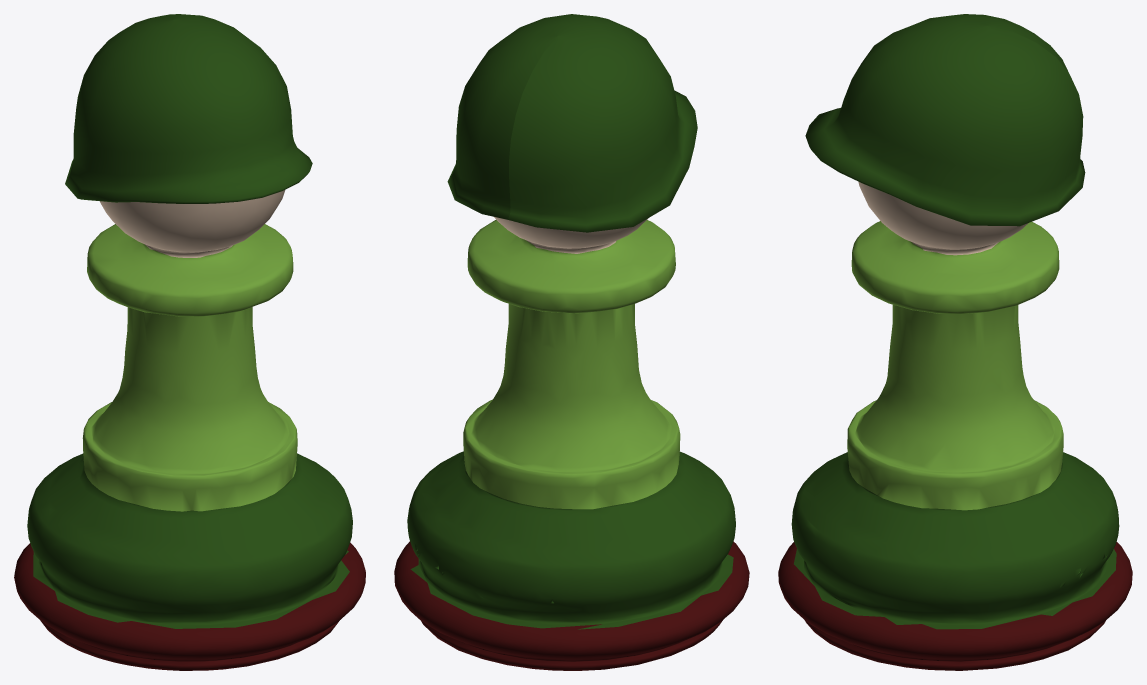
File: Peao Branco.fbx
3 views of the same model, side by side, from view 1: azimuth 30°, elevation 25°; view 2: azimuth 150°, elevation 25°; view 3: azimuth 270°, elevation 25° (orthographic).
Parts seen in each view (by area): view 1: revolvedSurface2, helmet; view 2: revolvedSurface2, helmet; view 3: revolvedSurface2, helmet.
Boxes of the visible parts, <box> form: revolvedSurface2: <box>14,190,365,670</box>; helmet: <box>65,14,312,203</box>; revolvedSurface2: <box>394,217,749,670</box>; helmet: <box>447,14,697,232</box>; revolvedSurface2: <box>778,181,1132,670</box>; helmet: <box>805,14,1085,226</box>.
Size of the model in its own units: 99.8 by 181 by 99.81.
